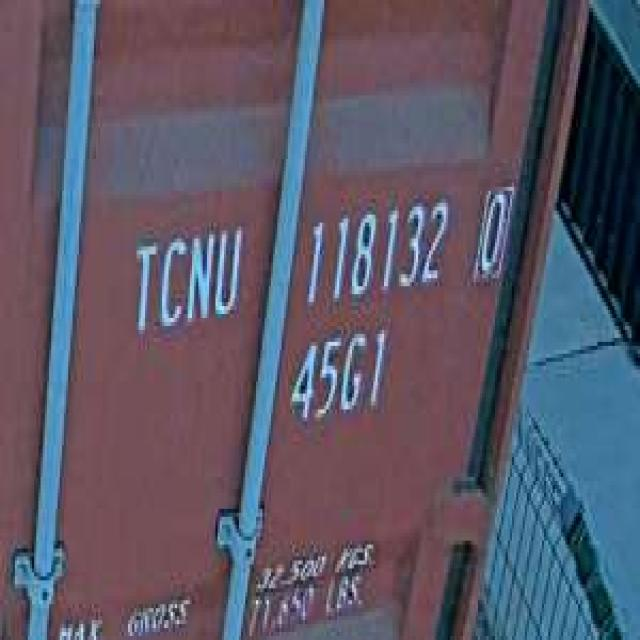dv: (471, 175, 512, 286)
owner: (126, 215, 245, 338)
serial: (299, 191, 452, 310)
size: (284, 318, 388, 429)
